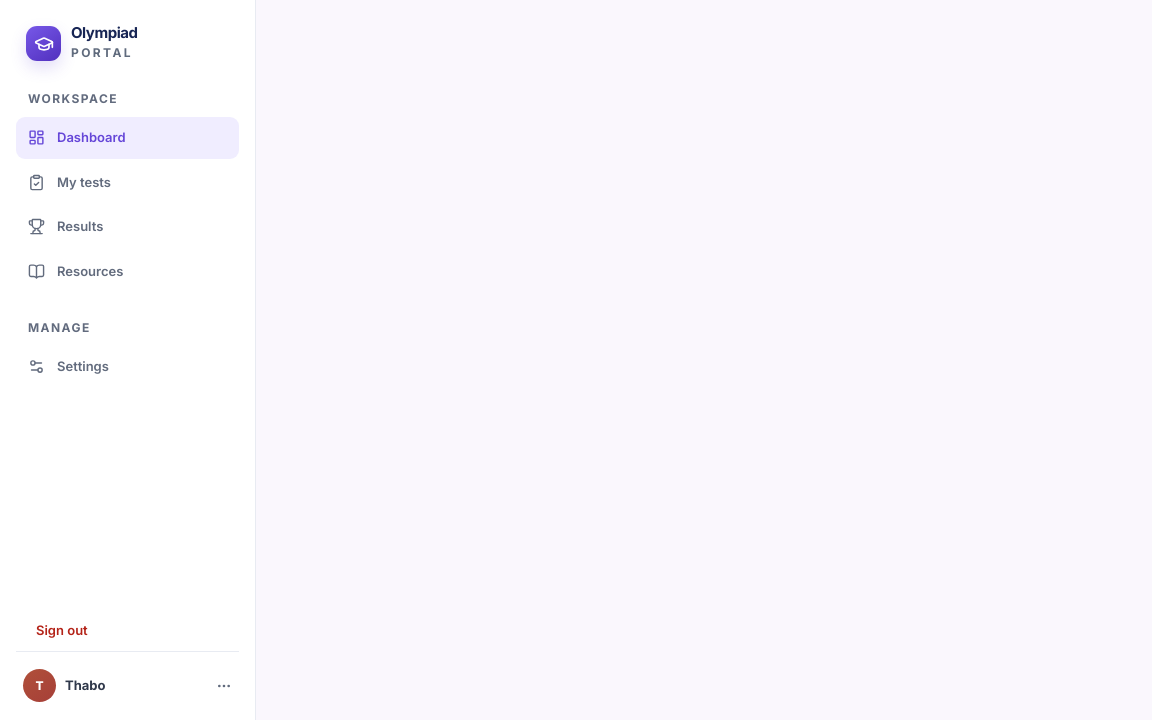
Test case: StudentSidebar › shows the sign out confirmation dialog when sign out is clicked
Step 1. Click the button "Sign out" → (136, 630), box [24, 610, 247, 651]
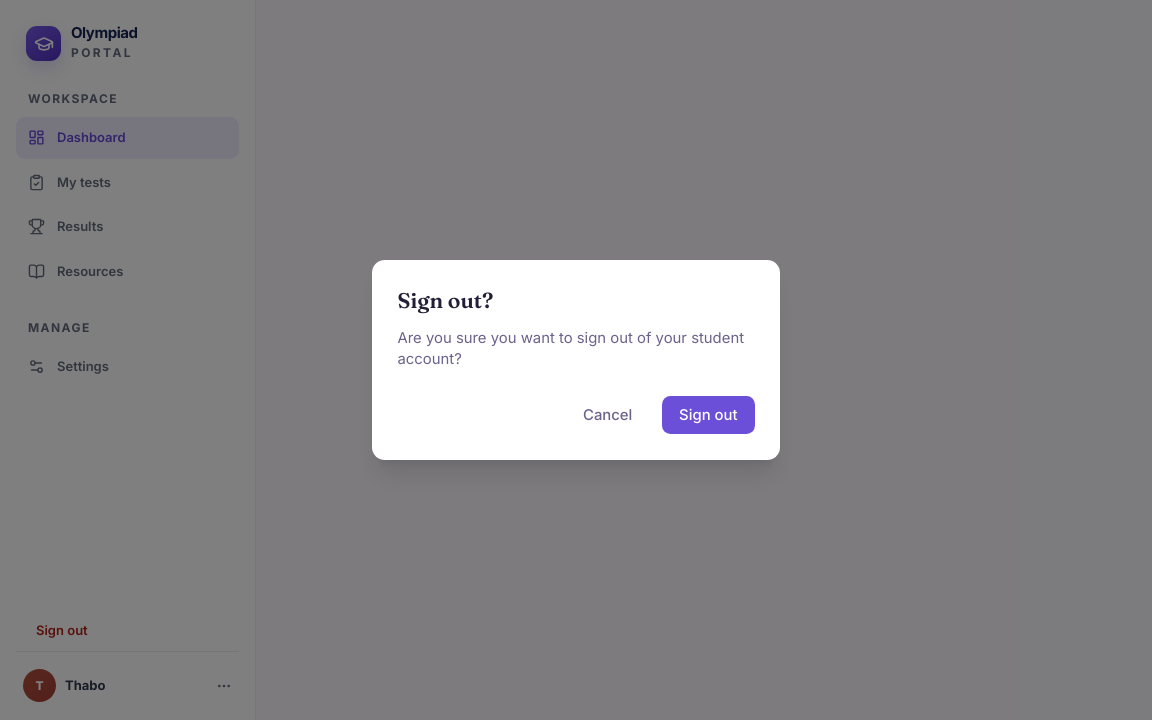
expect the heading "Sign out?" is shown: met, box [398, 287, 493, 313]
expect the button "Sign out" is shown: met, box [662, 396, 754, 434]
